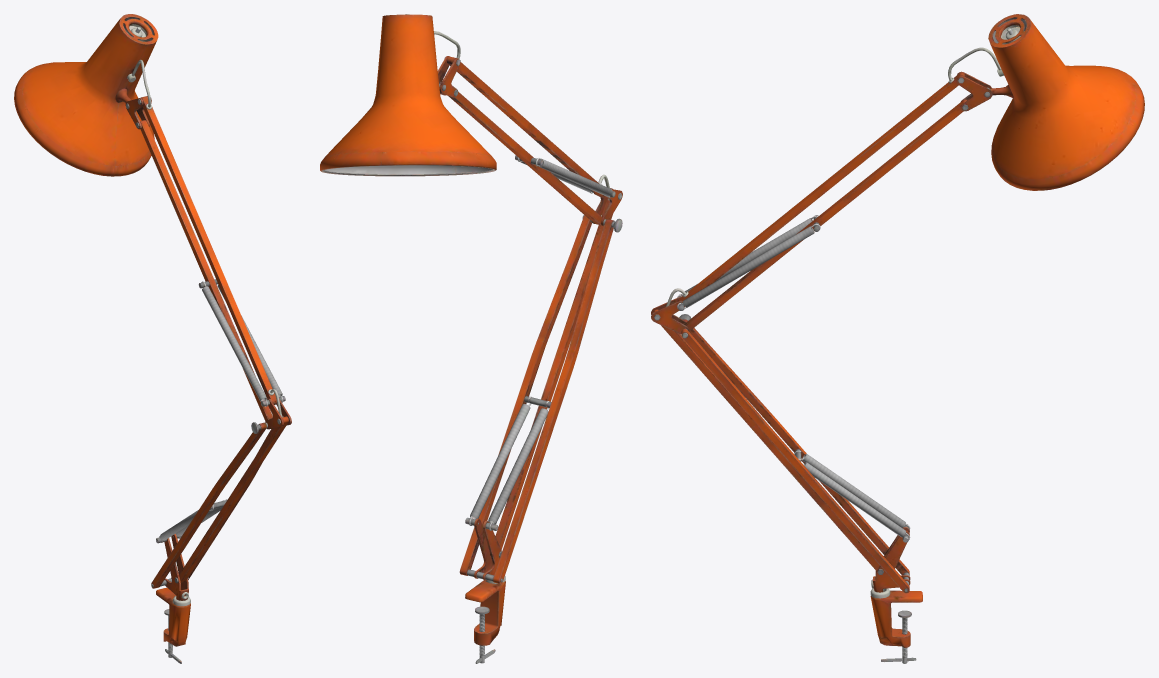
File: desk_lamp_arm_01.glb
3 views of the same model, side by side, from view 1: azimuth 30°, elevation 25°; view 2: azimuth 150°, elevation 25°; view 3: azimuth 270°, elevation 25° (orthographic). The views are drawn at different scales.
Visible parts, largest first — view 1: desk_lamp_arm_01; view 2: desk_lamp_arm_01; view 3: desk_lamp_arm_01.
Part boxes in pixels (x1,y1,x2,y2): desk_lamp_arm_01: (14, 14, 291, 663); desk_lamp_arm_01: (320, 14, 622, 663); desk_lamp_arm_01: (651, 14, 1144, 663).
Bounding box in the file's own units: 0.2017 × 0.8926 × 0.6139.
2 materials, 2 textured.
